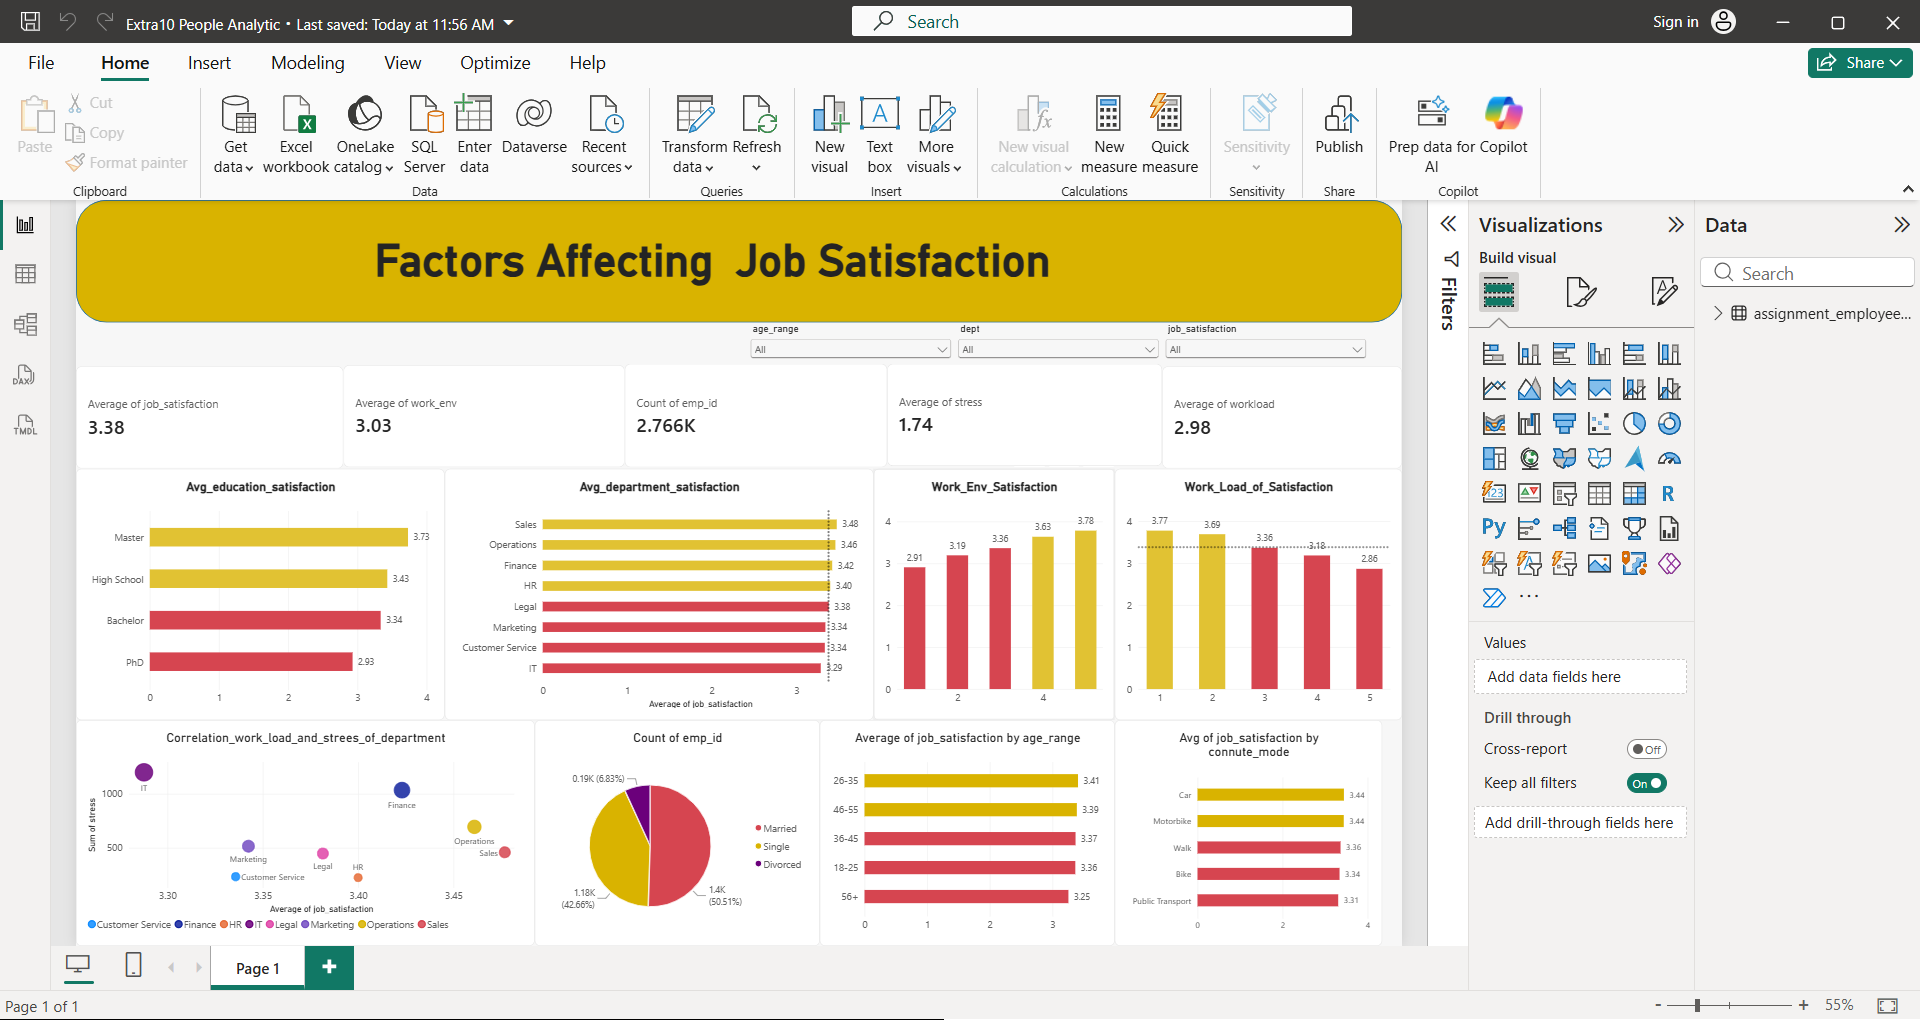

Layout of this report page (visuals, bound fields, positions):
{"tool":"powerbi","page":{"name":"Page 1","canvas":[1920,1080],"ordinal":0},"visuals":[{"type":"barChart","title":"Avg_education_satisfaction","fields":{"Category":["assignment_employee_survey.edu_level"],"Y":["Avg(assignment_employee_survey.job_satisfaction)"]},"box":[0,389.1,533.8,363.7],"z":0},{"type":"barChart","title":"Avg_department_satisfaction","fields":{"Category":["assignment_employee_survey.dept"],"Y":["Avg(assignment_employee_survey.job_satisfaction)"]},"box":[533.8,389.1,620.7,363.7],"z":1000},{"type":"cardVisual","fields":{"Data":["Avg(assignment_employee_survey.job_satisfaction)"]},"box":[0,240.7,387.3,148.4],"z":2000},{"type":"columnChart","title":"Work_Env_Satisfaction","fields":{"Y":["Avg(assignment_employee_survey.job_satisfaction)"],"Category":["assignment_employee_survey.work_env"]},"box":[1154.6,389.1,349.3,363.7],"z":3000},{"type":"columnChart","title":"Work_Load_of_Satisfaction","fields":{"Y":["Avg(assignment_employee_survey.job_satisfaction)"],"Category":["assignment_employee_survey.workload"]},"box":[1503.8,389.1,416.2,363.7],"z":4000},{"type":"scatterChart","title":"Correlation_work_load_and_strees_of_department","fields":{"Y":["Sum(assignment_employee_survey.stress)"],"Size":["Sum(assignment_employee_survey.workload)"],"X":["Avg(assignment_employee_survey.job_satisfaction)"],"Series":["assignment_employee_survey.dept"]},"box":[0,752.8,664.1,327.5],"z":5000},{"type":"cardVisual","fields":{"Data":["Avg(assignment_employee_survey.work_env)"]},"box":[387.3,238.9,407.2,148.4],"z":5001},{"type":"cardVisual","fields":{"Data":["Avg(assignment_employee_survey.stress)"]},"box":[1174.5,237.1,398.1,148.4],"z":5002},{"type":"cardVisual","fields":{"Data":["Avg(assignment_employee_survey.workload)"]},"box":[1572.6,240.7,347.5,148.4],"z":5003},{"type":"pieChart","title":"Count of emp_id","fields":{"Category":["assignment_employee_survey.marital_status"],"Y":["Count(assignment_employee_survey.emp_id)"]},"box":[664.1,752.8,412.6,327.5],"z":5004},{"type":"cardVisual","fields":{"Data":["Count(assignment_employee_survey.emp_id)"]},"box":[794.4,237.1,380,150.2],"z":5005},{"type":"barChart","fields":{"Category":["assignment_employee_survey.age_range"],"Y":["Avg(assignment_employee_survey.job_satisfaction)"]},"box":[1076.7,752.8,427.1,327.5],"z":5006},{"type":"barChart","title":"Avg of job_satisfaction by connute_mode","fields":{"Category":["assignment_employee_survey.commute_mode"],"Y":["Avg(assignment_employee_survey.job_satisfaction)"]},"box":[1503.8,752.8,387.3,327.5],"z":5007},{"type":"shape","box":[0,0,1920.1,177.3],"z":5008},{"type":"textbox","box":[432.5,48.9,1055,77.8],"z":5009},{"type":"slicer","fields":{"Values":["assignment_employee_survey.job_satisfaction"]},"box":[1572.6,177.3,300.4,52.5],"z":5010},{"type":"slicer","fields":{"Values":["assignment_employee_survey.dept"]},"box":[1272.2,177.3,300.4,63.3],"z":5012},{"type":"slicer","fields":{"Values":["assignment_employee_survey.age_range"]},"box":[971.8,177.3,300.4,54.3],"z":5013}]}

Visuals, with their boxes on the page's 1920x1080 design canvas (x1, y1, x2, y2). These are canvas units, not pixel positions in the 1920x1020 screenshot, which may show the page scaled, cropped or inside an application window:
"Avg_education_satisfaction" barChart: left=0, top=389, right=534, bottom=753
"Avg_department_satisfaction" barChart: left=534, top=389, right=1154, bottom=753
cardVisual - Avg(assignment_employee_survey.job_satisfaction): left=0, top=241, right=387, bottom=389
"Work_Env_Satisfaction" columnChart: left=1155, top=389, right=1504, bottom=753
"Work_Load_of_Satisfaction" columnChart: left=1504, top=389, right=1920, bottom=753
"Correlation_work_load_and_strees_of_department" scatterChart: left=0, top=753, right=664, bottom=1080
cardVisual - Avg(assignment_employee_survey.work_env): left=387, top=239, right=794, bottom=387
cardVisual - Avg(assignment_employee_survey.stress): left=1174, top=237, right=1573, bottom=386
cardVisual - Avg(assignment_employee_survey.workload): left=1573, top=241, right=1920, bottom=389
"Count of emp_id" pieChart: left=664, top=753, right=1077, bottom=1080
cardVisual - Count(assignment_employee_survey.emp_id): left=794, top=237, right=1174, bottom=387
barChart - assignment_employee_survey.age_range x Avg(assignment_employee_survey.job_satisfaction): left=1077, top=753, right=1504, bottom=1080
"Avg of job_satisfaction by connute_mode" barChart: left=1504, top=753, right=1891, bottom=1080
shape: left=0, top=0, right=1920, bottom=177
textbox: left=432, top=49, right=1488, bottom=127
slicer - assignment_employee_survey.job_satisfaction: left=1573, top=177, right=1873, bottom=230
slicer - assignment_employee_survey.dept: left=1272, top=177, right=1573, bottom=241
slicer - assignment_employee_survey.age_range: left=972, top=177, right=1272, bottom=232
